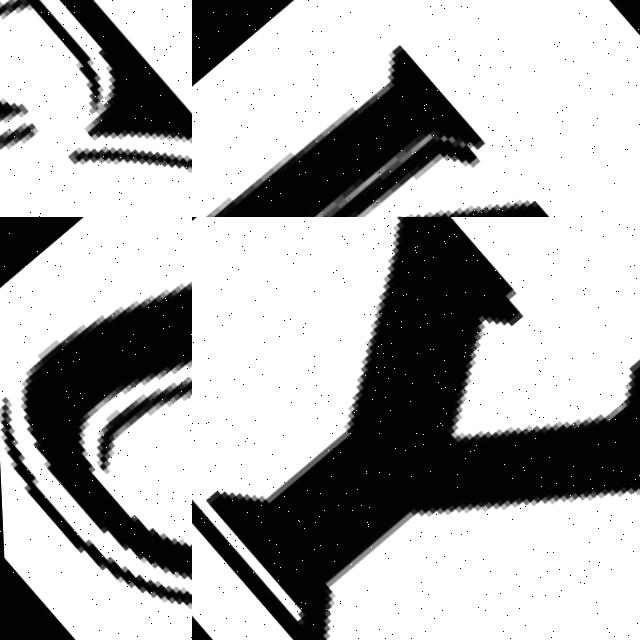F: (0, 0, 192, 217)
U: (0, 217, 192, 640)
W: (210, 42, 483, 217)
Y: (192, 217, 640, 640)
